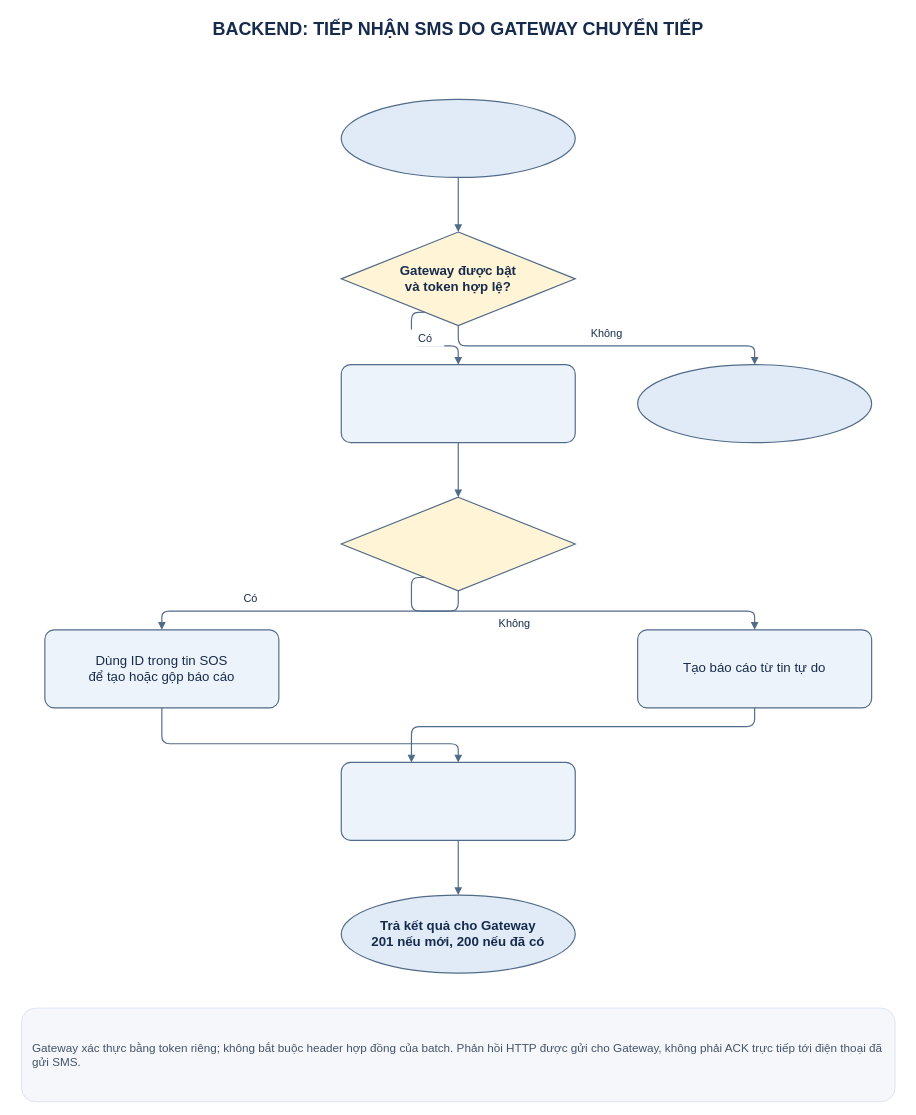
The diagram is 916 pixels wide and 1115 high, and some of its shapes have lost their labels. Each missing label, with the centre of its shape:
"Gateway gọi /api/sms/inbound" belongs at point 457,138.
"Lưu báo cáo nguồn SMS Ghi nhận thông tin liên hệ" belongs at point 457,801.
"SMS theo định dạng SOS?" belongs at point 457,543.
"Từ chối Gateway HTTP 401 hoặc 403" belongs at point 754,403.
"Đọc người gửi và nội dung SMS" belongs at point 457,403.
